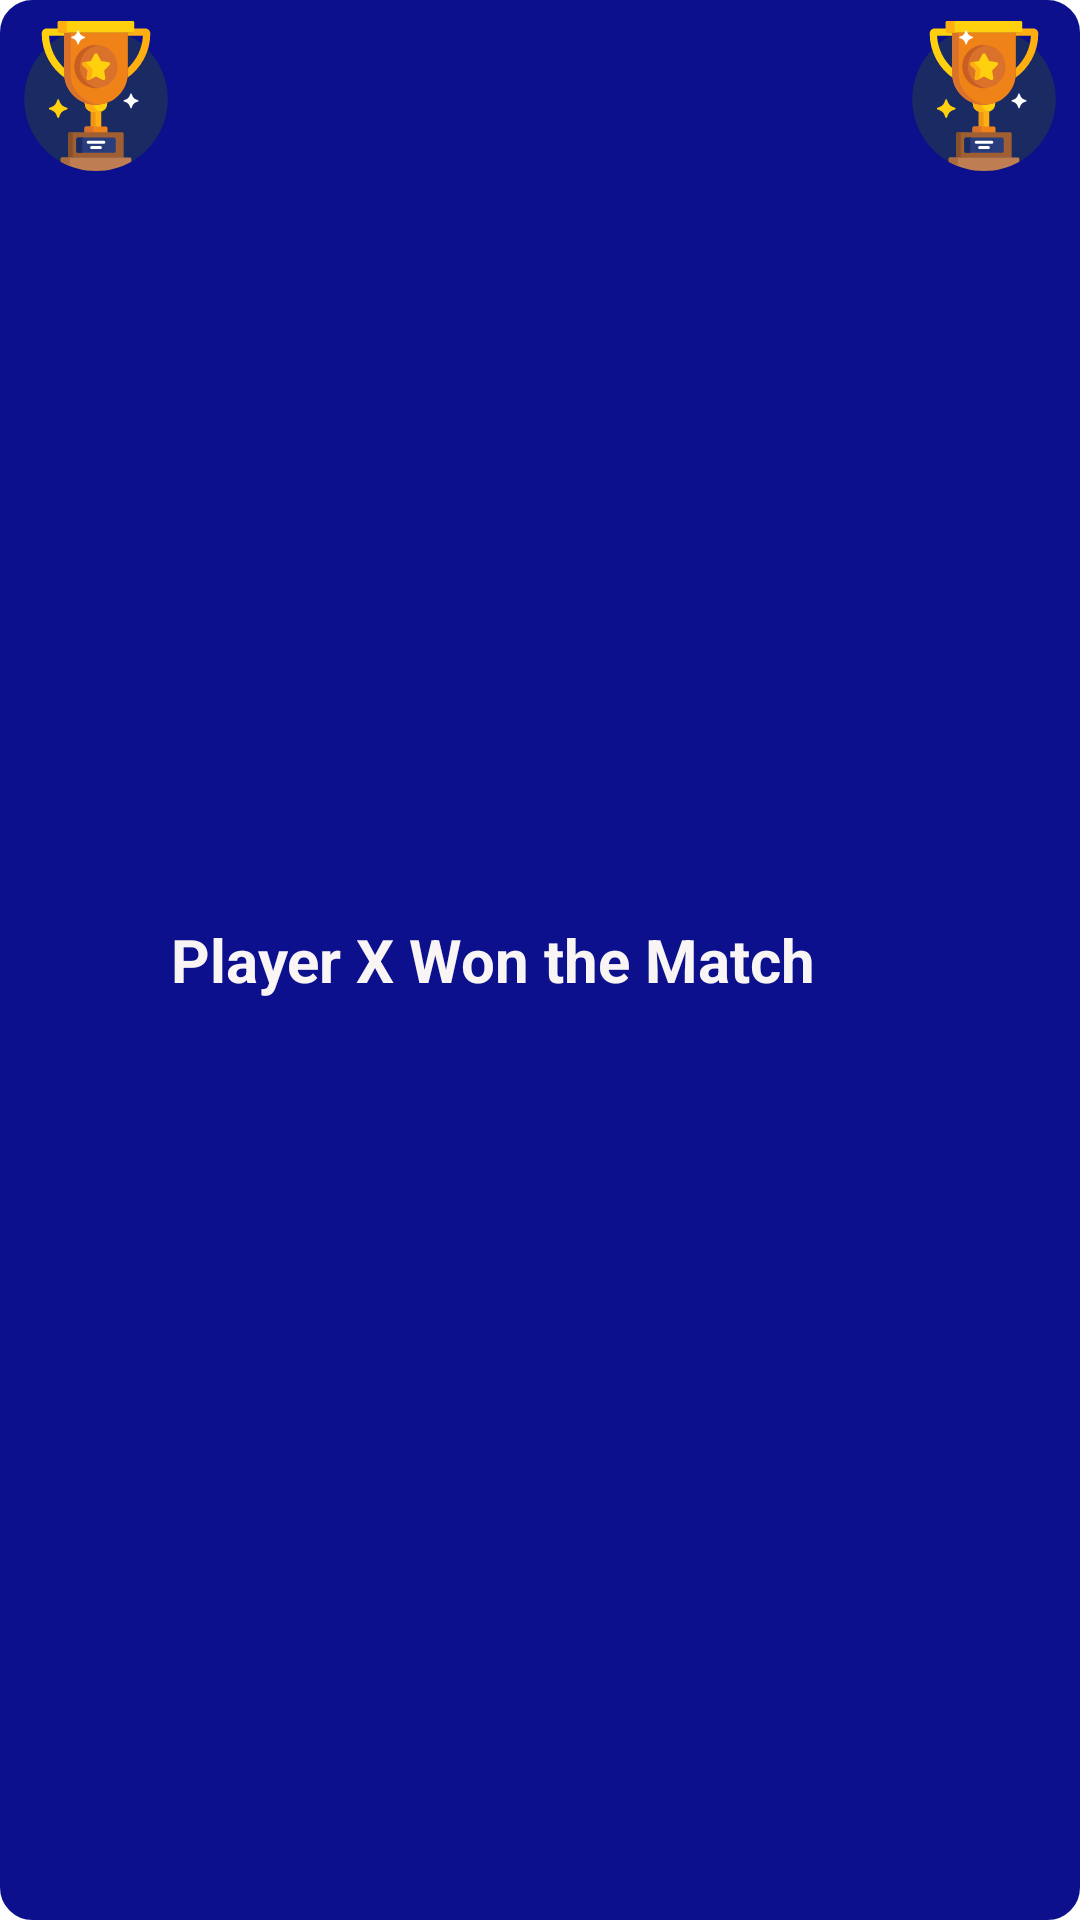

Where icons sit on this 1080x1920 app screen, as box=[x1, y1, x2, y2]:
trophy: box=[24, 21, 168, 171], box=[912, 21, 1056, 171]
